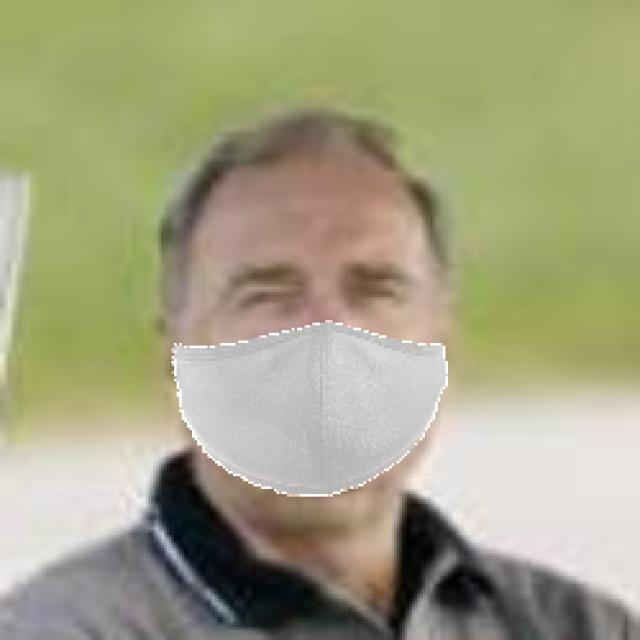mask: (168, 322, 459, 509)
